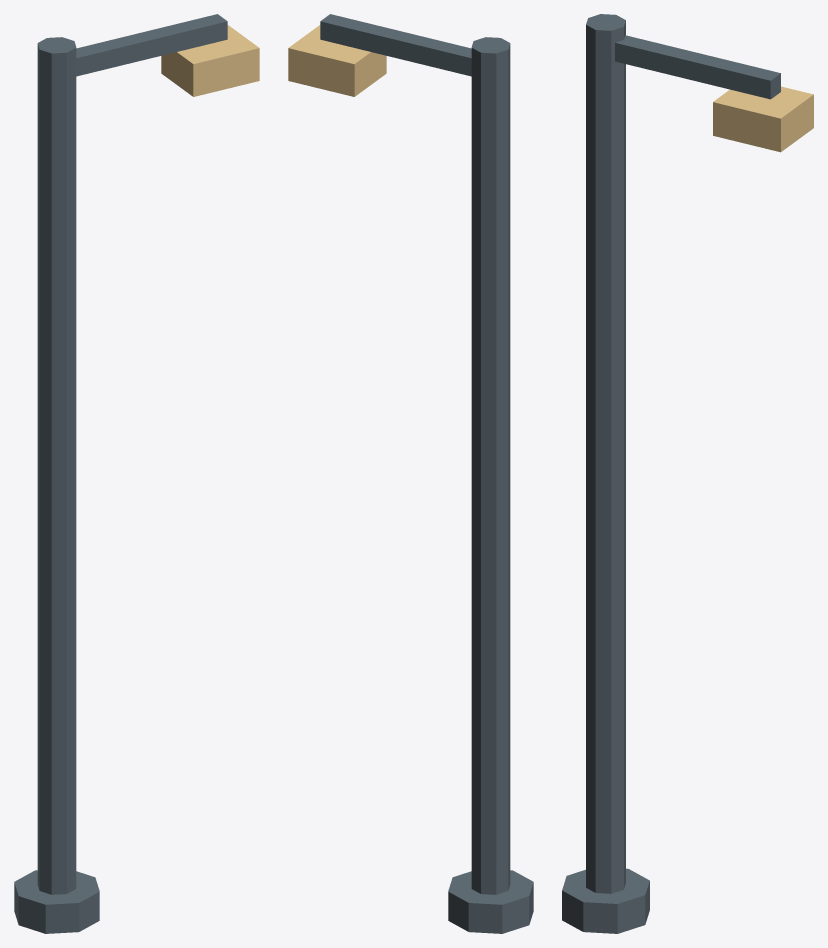
The model's file is la-city-streetlight-anime.glb.
3 renders of one model, left to right at view 1: azimuth 30°, elevation 25°; view 2: azimuth 150°, elevation 25°; view 3: azimuth 330°, elevation 25°, orthographic. The views are drawn at different scales.
Visible parts, largest first — view 1: la-city-streetlight-anime; view 2: la-city-streetlight-anime; view 3: la-city-streetlight-anime.
Boxes of the visible parts, <box> form: la-city-streetlight-anime: <box>14,14,259,933</box>; la-city-streetlight-anime: <box>288,14,533,933</box>; la-city-streetlight-anime: <box>562,14,813,933</box>.
Size of the model in its own units: 1.29 by 4.77 by 0.44.
